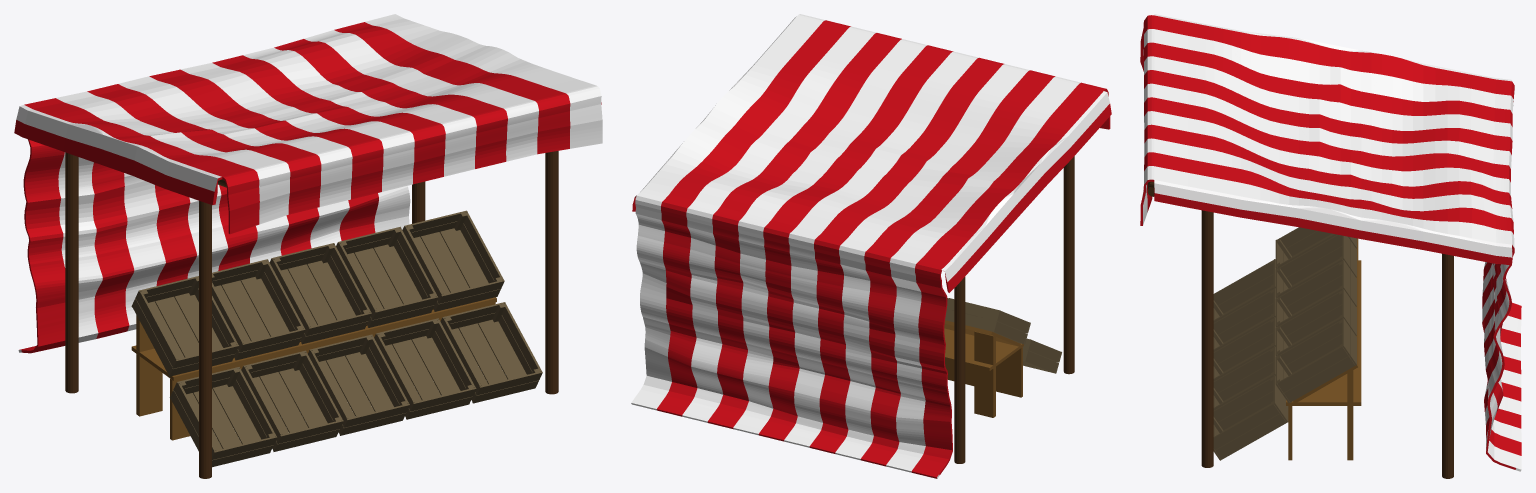
The model's file is targ.fbx.
3 views of the same model, side by side, from view 1: azimuth 30°, elevation 25°; view 2: azimuth 150°, elevation 25°; view 3: azimuth 270°, elevation 25° (orthographic). The views are drawn at different scales.
Visible parts, largest first — view 1: Cube.004, Cylinder.021, Cube.010, Cube.008, Cube.012, Cube.011, Cube.015, Cube.016, Cube.017, Cube.014, Cube.013, Cube.009 (+1 smaller); view 2: Cube.004, Cylinder.021, Cube.007, Cube.013, Cube.009; view 3: Cube.004, Cylinder.021, Cube.017, Cube.012, Cube.007, Cube.015, Cube.016, Cube.014, Cube.011, Cube.009, Cube.008, Cube.010 (+1 smaller).
Boxes of the visible parts, x1,y1,x2,y2 form: Cube.004: (14, 14, 602, 353); Cylinder.021: (65, 151, 558, 478); Cube.010: (308, 334, 409, 435); Cube.008: (241, 350, 343, 451); Cube.012: (440, 302, 542, 403); Cube.011: (374, 318, 476, 419); Cube.015: (269, 243, 371, 344); Cube.016: (336, 226, 438, 327); Cube.017: (402, 210, 504, 311); Cube.014: (212, 259, 305, 360); Cube.013: (131, 276, 238, 376); Cube.009: (169, 367, 277, 467); Cube.004: (631, 14, 1111, 478); Cylinder.021: (954, 156, 1074, 463); Cube.007: (944, 320, 1023, 417); Cube.013: (945, 298, 1030, 344); Cube.009: (1023, 338, 1061, 373); Cube.004: (1140, 14, 1521, 471); Cylinder.021: (1147, 181, 1453, 478); Cube.017: (1275, 318, 1356, 403); Cube.012: (1213, 376, 1288, 460); Cube.007: (1286, 238, 1361, 460); Cube.015: (1275, 260, 1356, 326); Cube.016: (1275, 289, 1356, 356); Cube.014: (1275, 234, 1356, 297); Cube.011: (1213, 346, 1276, 410); Cube.009: (1213, 259, 1275, 322); Cube.008: (1213, 288, 1275, 351); Cube.010: (1213, 317, 1276, 380).
Bounding box in the file's own units: 674 × 557 × 634.
